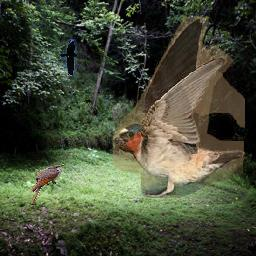Crow: (61, 39, 78, 75)
Cuckoo: (30, 164, 64, 204)
Swallow: (113, 18, 245, 199)
